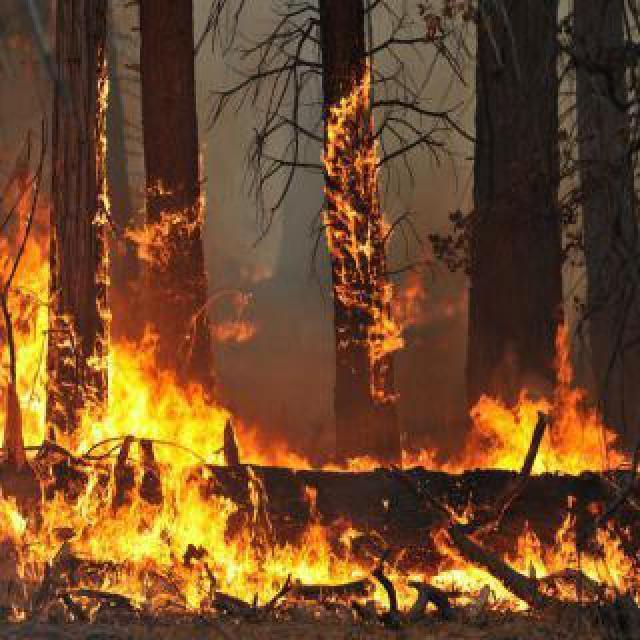Fire: (2, 140, 270, 474), (312, 68, 414, 402), (462, 356, 632, 484)
